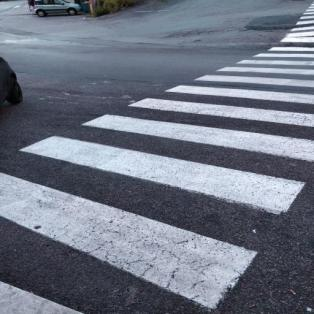Paso de Cebra: (0, 110, 313, 215)
